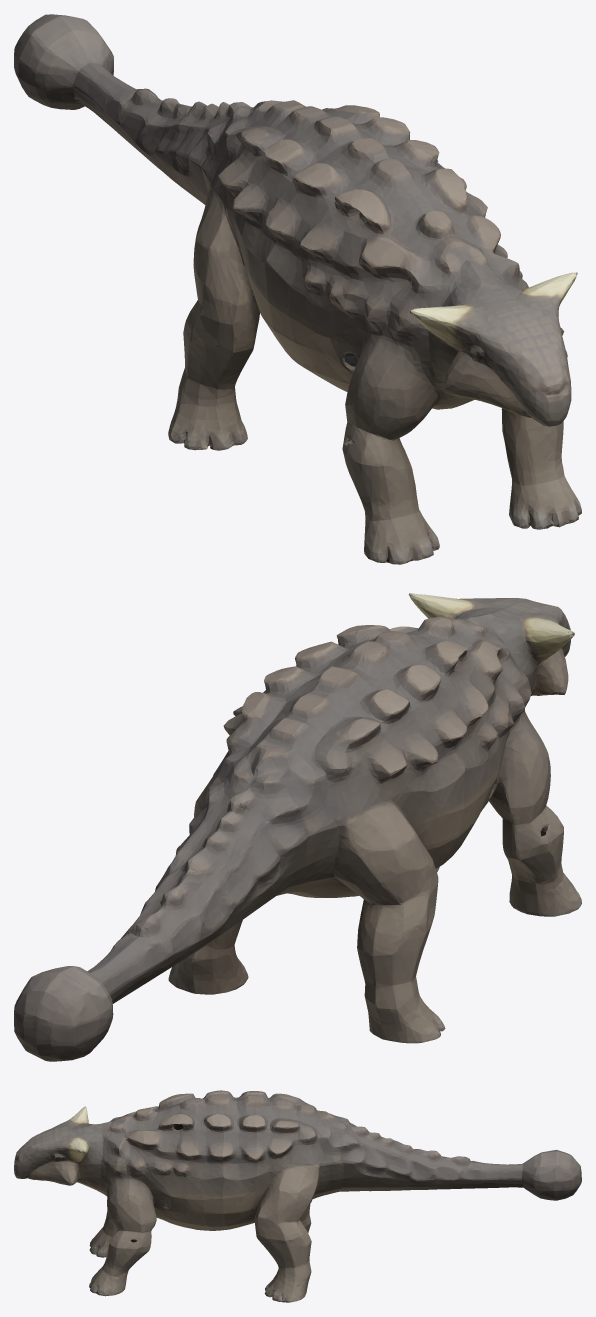
3 renders of one model, top to bottom at view 1: azimuth 30°, elevation 25°; view 2: azimuth 150°, elevation 25°; view 3: azimuth 270°, elevation 25°, orthographic. The views are drawn at different scales.
Parts seen in each view (by area): view 1: world; view 2: world; view 3: world.
Part boxes in pixels (bbox=[...]): world: bbox=[14, 14, 581, 564]; world: bbox=[14, 593, 581, 1061]; world: bbox=[14, 1090, 581, 1302].
Size of the model in its own units: 0.2967 by 0.3318 by 1.
Materials: 1 (1 with a texture image).
